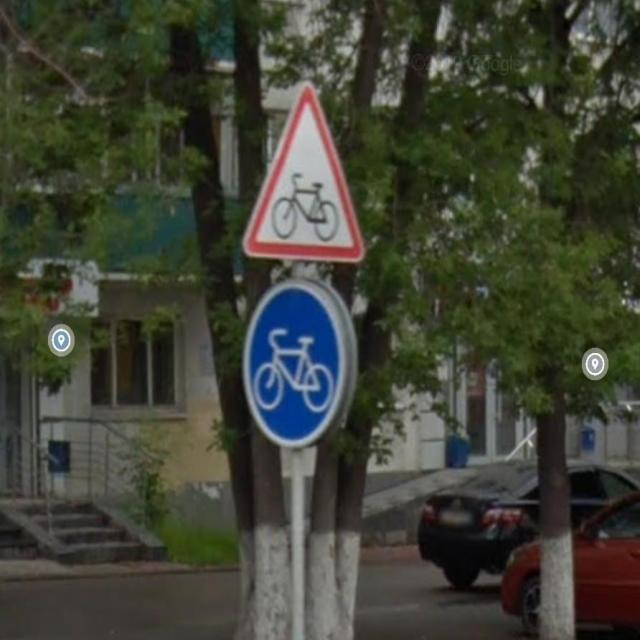traffic_sign: (238, 77, 367, 265), (241, 276, 347, 450)
